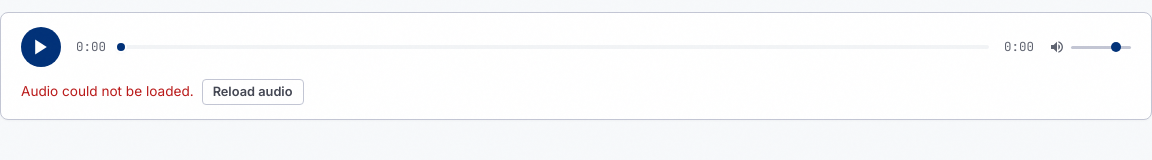
it: AudioPlayer load failures › reports a media error and reloads the source on request
Expected: the message shows "Audio could not be loaded.", x1=21 y1=83 x2=194 y2=99
What coordinates should you click on to do the following:
click the button "Reload audio"
I would click on:
 (253, 92)
Its box is x1=202 y1=79 x2=304 y2=106.
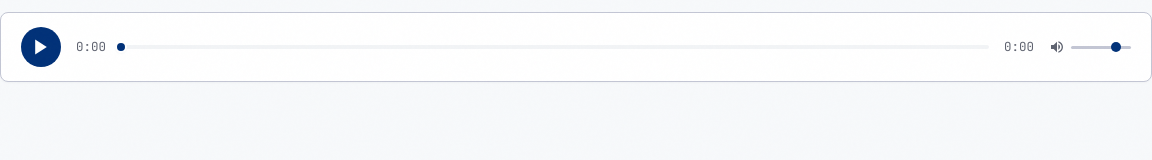
Result: the message "Audio could not be loaded. Reload audio" is gone
